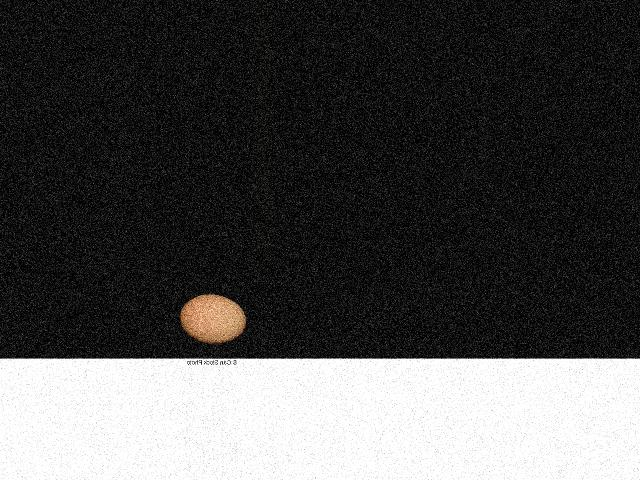egg: (179, 295, 245, 345)
